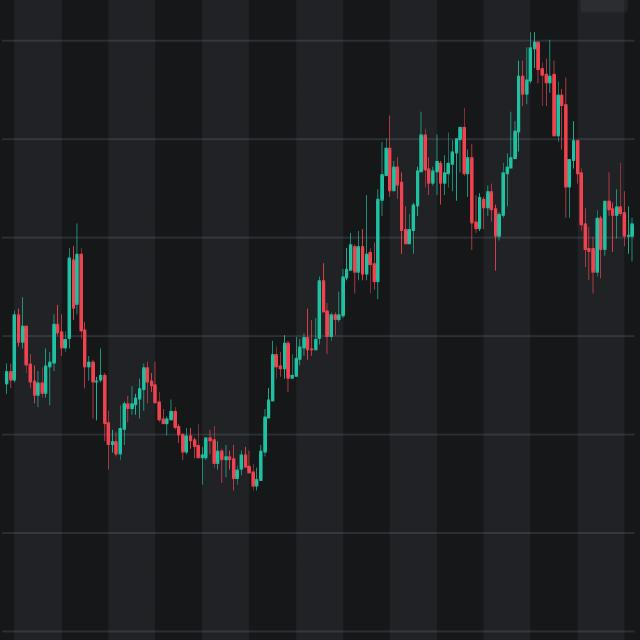Falling-Wedge: (497, 8, 611, 307), (130, 314, 281, 516)
